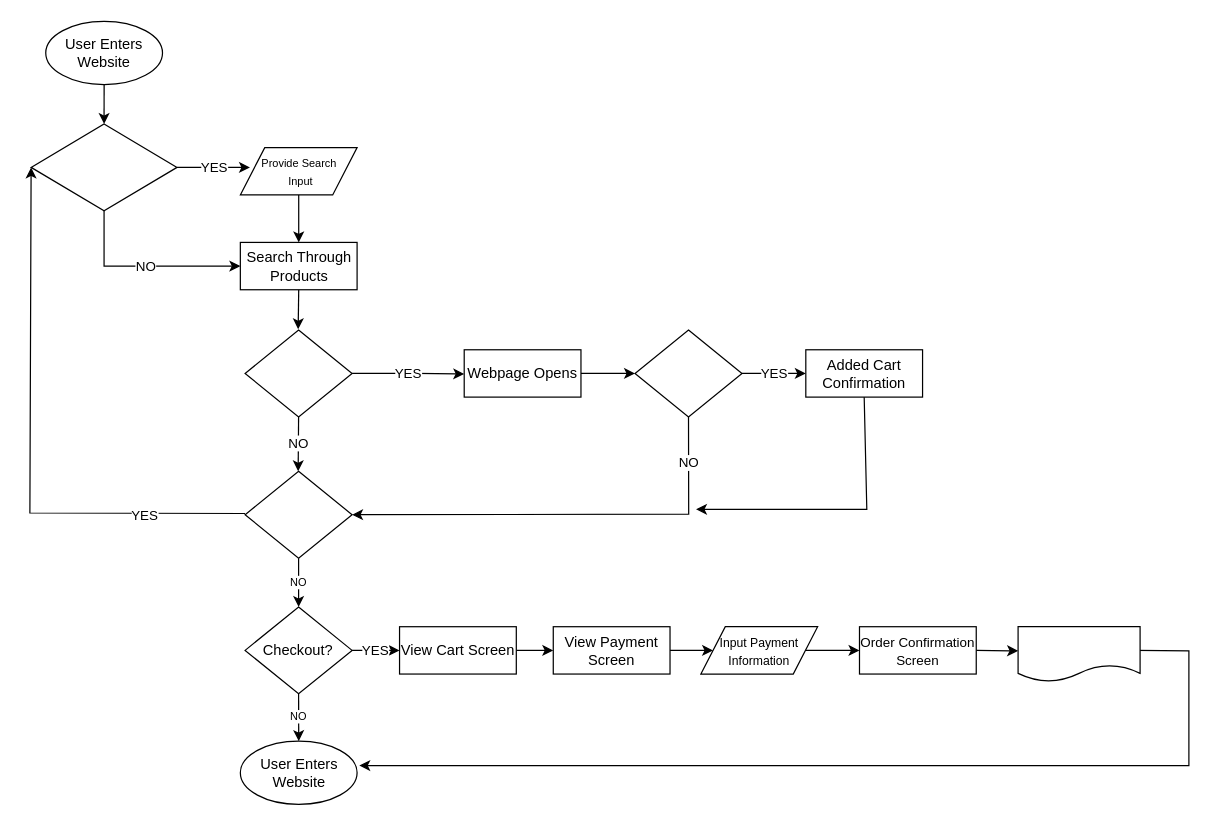
This 1220x826 diagram has some shape labels left out. Each missing label, with the box of its shape:
Add To Cart?: (634, 329, 742, 417)
Confirmation Email Goes To User: (1017, 625, 1140, 682)
Continue shopping?: (244, 470, 352, 558)
Search for a product?: (30, 123, 177, 211)
View Specific Product?: (244, 329, 352, 417)
